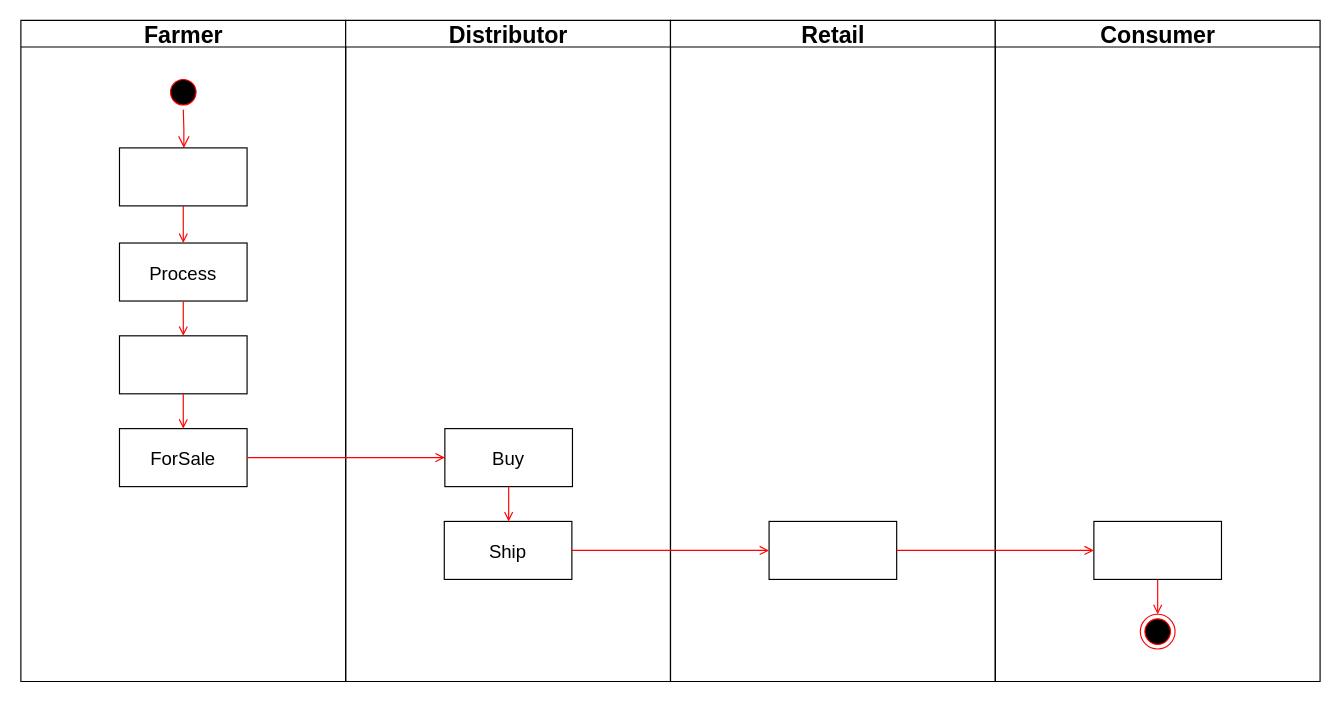
This 1340x702 diagram has some shape labels left out. Each missing label, with the box of its shape:
Harvest: (118, 147, 247, 206)
Pack: (118, 335, 247, 394)
Purchased: (1093, 520, 1221, 579)
Received: (768, 520, 897, 579)
